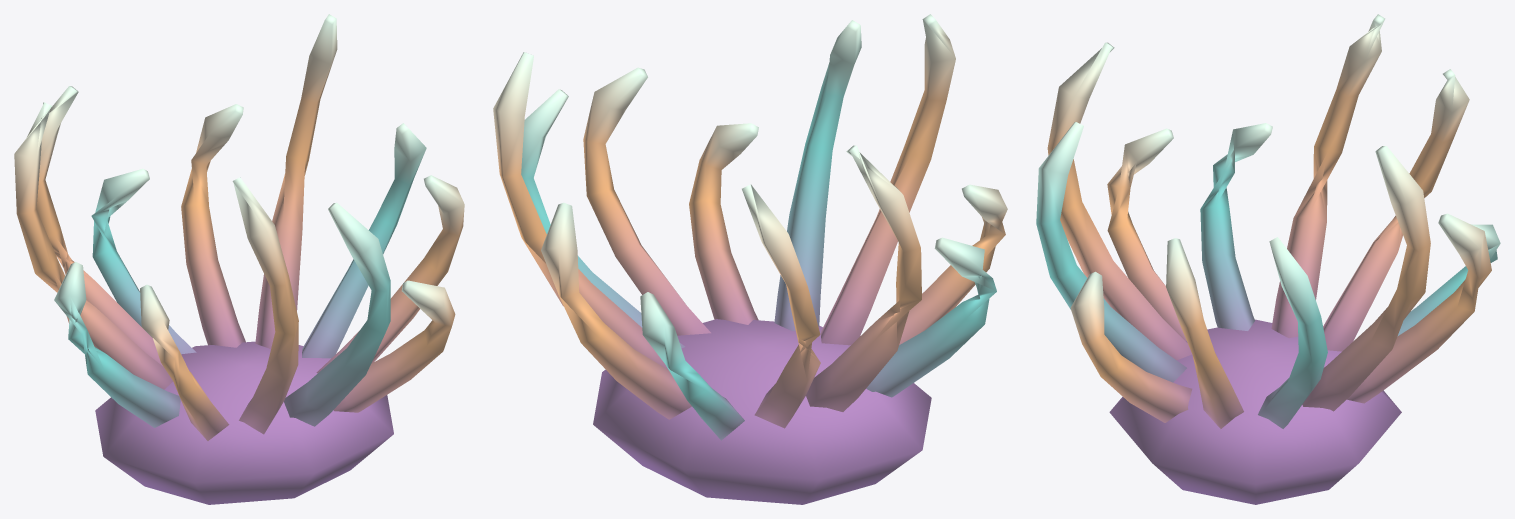
File: anemone-lantern.glb
3 views of the same model, side by side, from view 1: azimuth 30°, elevation 25°; view 2: azimuth 150°, elevation 25°; view 3: azimuth 270°, elevation 25° (orthographic). The views are drawn at different scales.
Visible parts, largest first — view 1: anemone-lantern; view 2: anemone-lantern; view 3: anemone-lantern.
Part boxes in pixels (bbox=[...]): anemone-lantern: bbox=[14, 14, 464, 504]; anemone-lantern: bbox=[493, 14, 1007, 504]; anemone-lantern: bbox=[1036, 14, 1500, 504].
Bounding box in the file's own units: 1.16 × 1.09 × 1.14.
